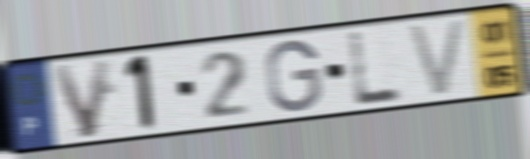1: (122, 51, 159, 133)
2: (199, 47, 253, 122)
G: (264, 37, 325, 114)
L: (346, 28, 407, 109)
V: (403, 15, 471, 101), (48, 55, 115, 142)
